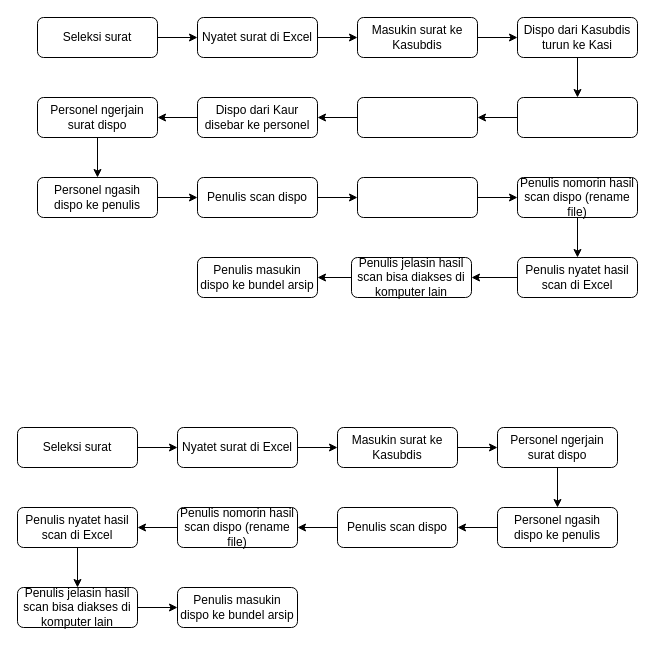
Image size: 655x646. Some labels were removed from this diagram. Here are the shapes that lost their labels. From the top down, the centre of each, then its label:
pixel 417 117: Dispo dari Kasubsi turun ke Kaur
pixel 577 117: Dispo dari Kasi turun ke Kasubsi
pixel 417 197: Penulis merge hasil scan dispo
